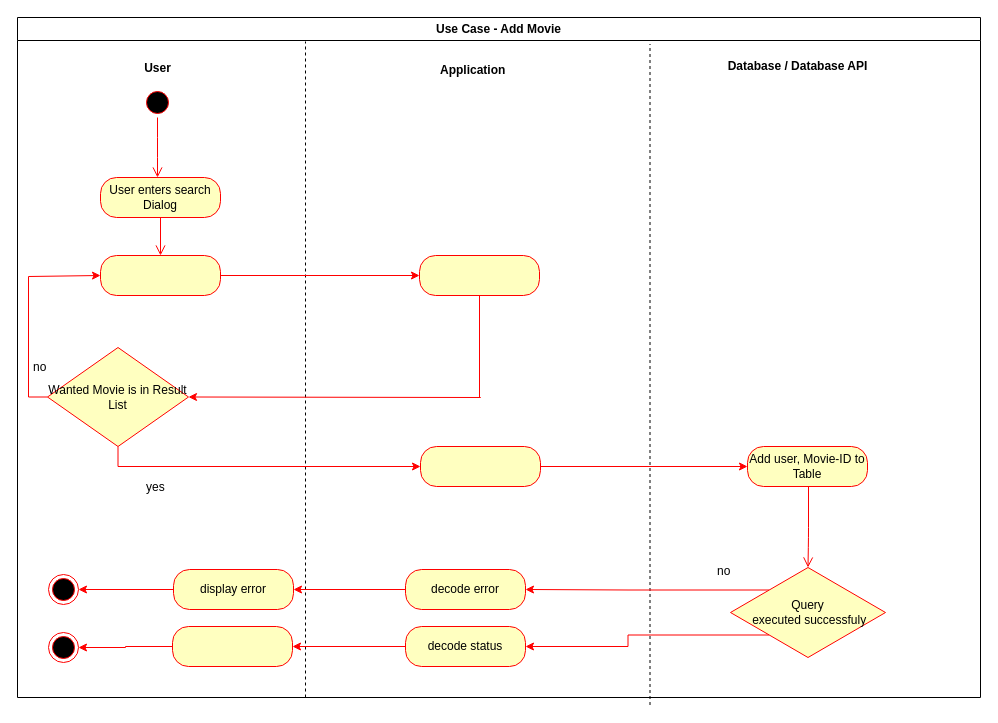
Some shapes in this 998 by 723 pixel diagram are drawn without their labels. Each missing label, with the centre of its shape:
"App sends Insert Quey to DB" belongs at pixel 480 466.
"App sends Query to TmDB" belongs at pixel 479 275.
"display success message" belongs at pixel 232 646.
"User fills in Movie Title" belongs at pixel 160 275.
